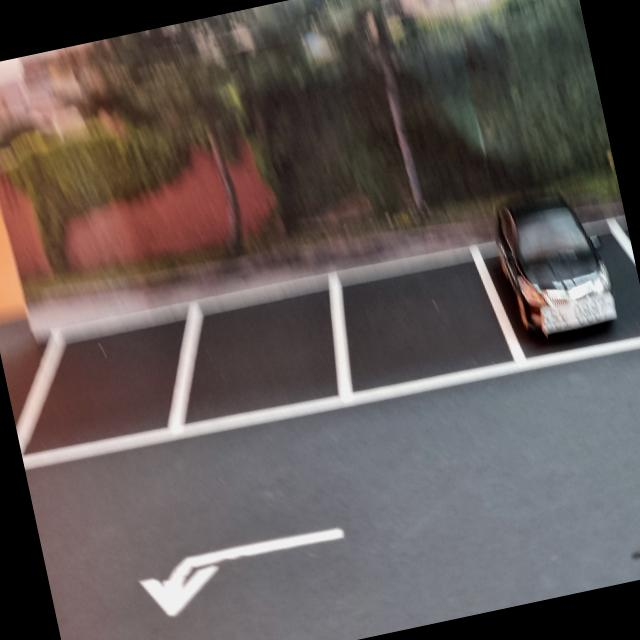car: (481, 176, 626, 362)
free: (326, 232, 514, 408), (0, 300, 194, 470), (172, 274, 354, 441)
